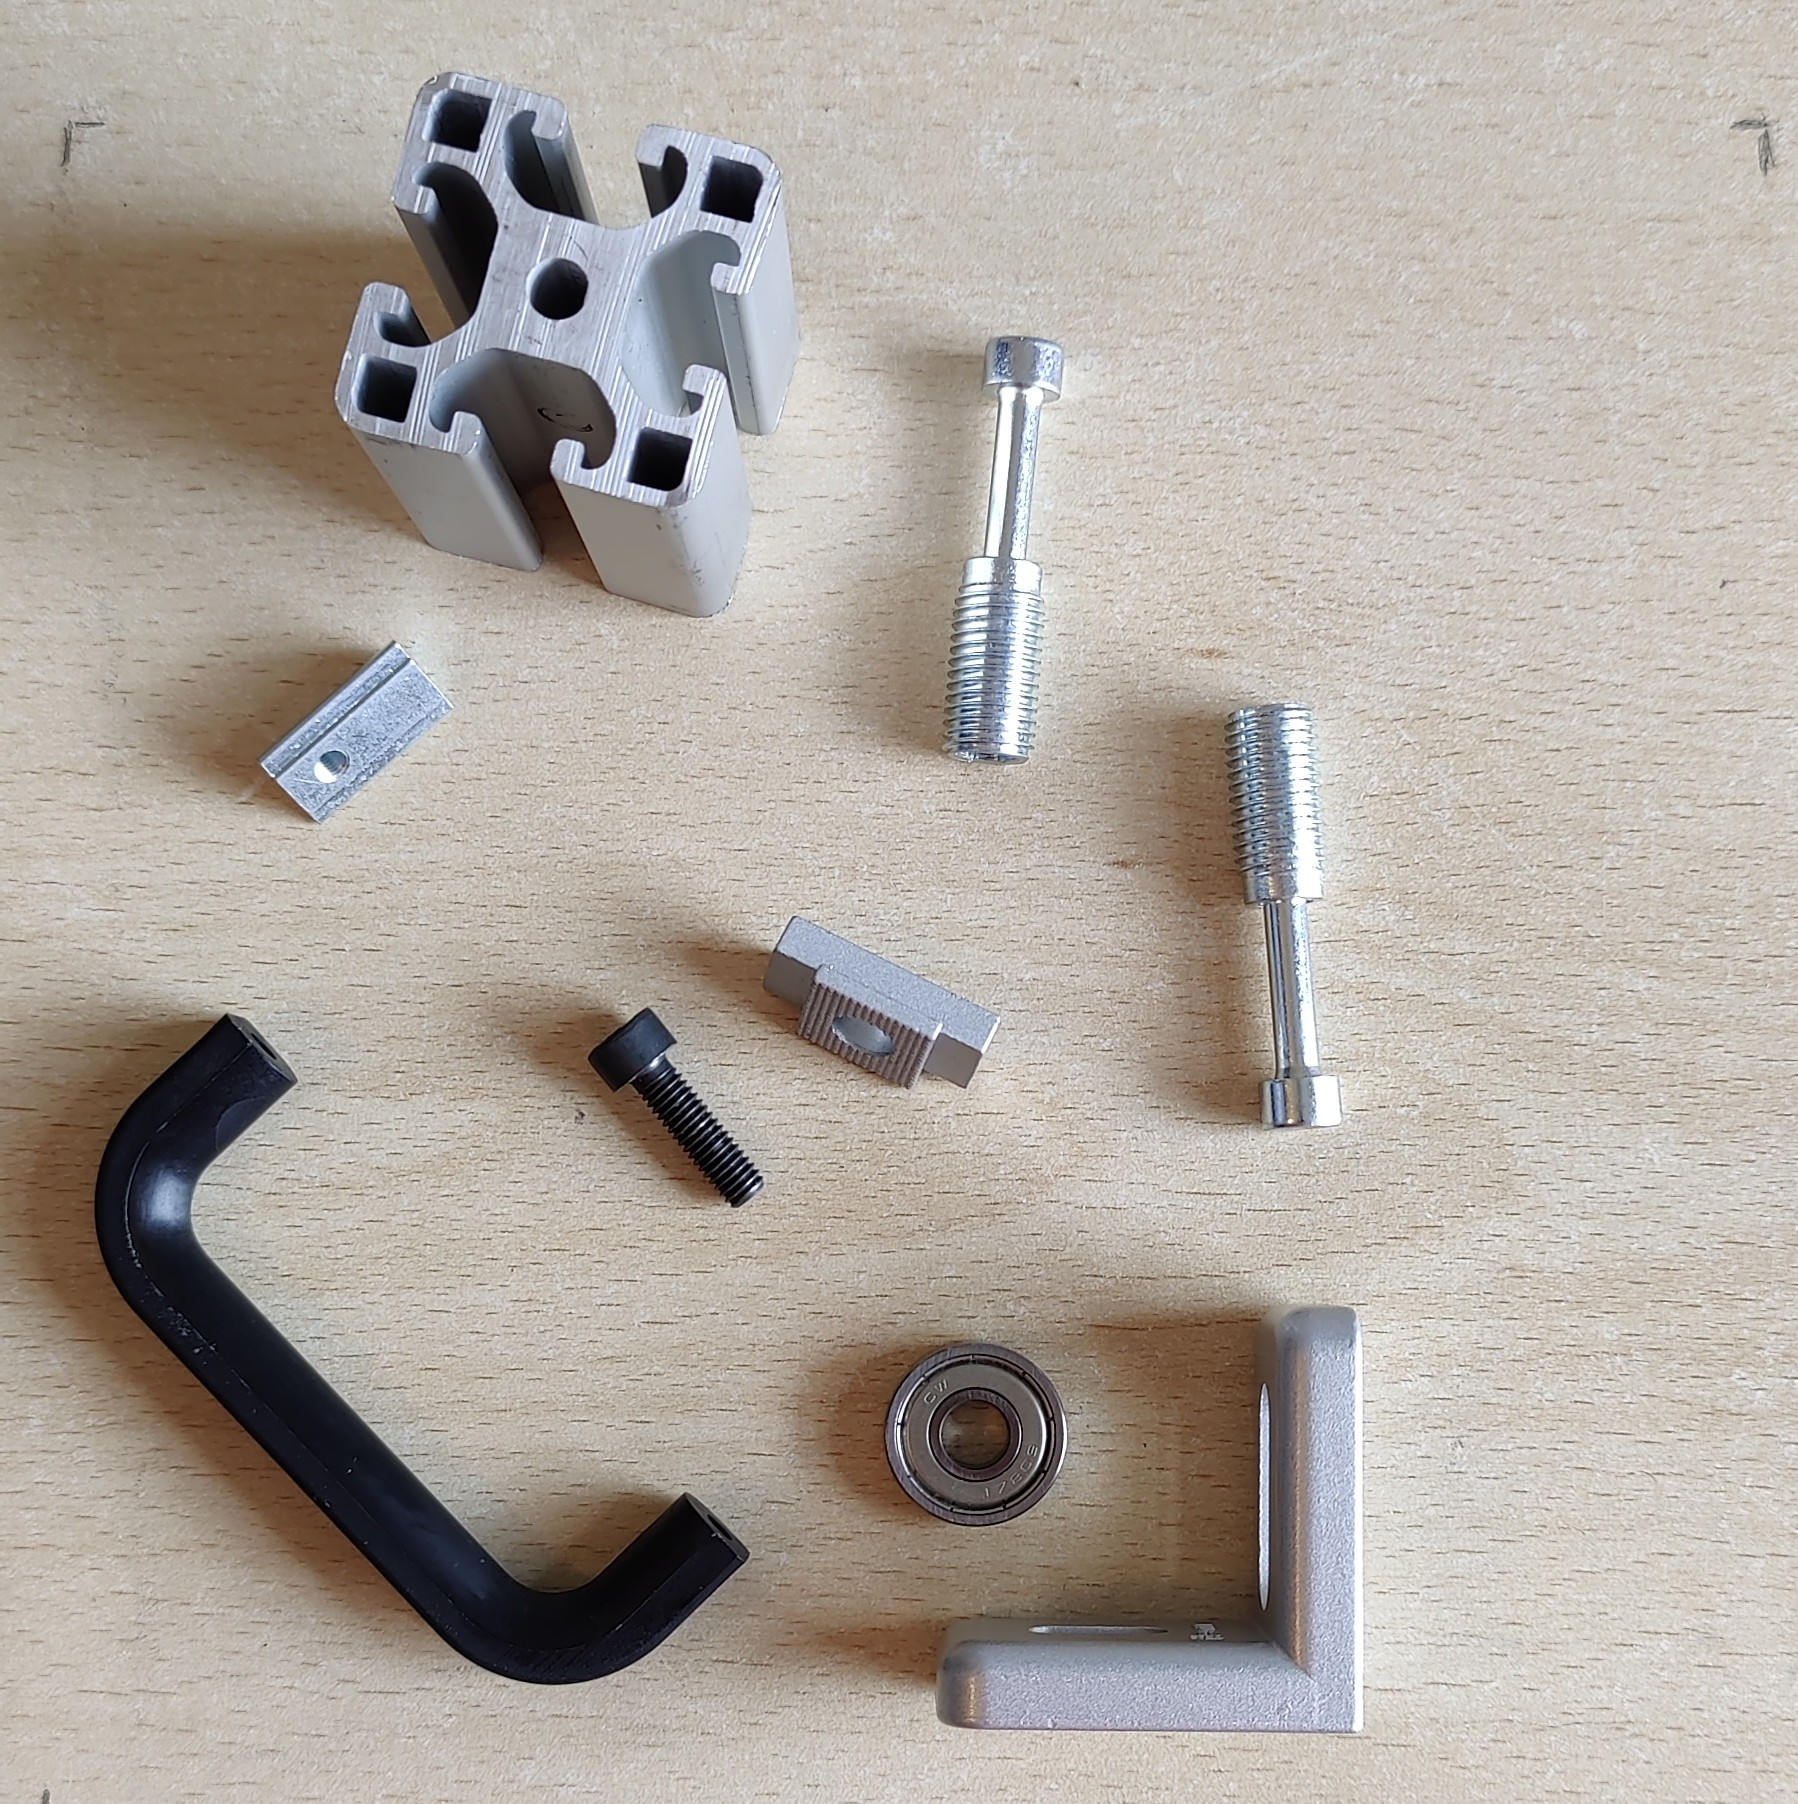Aluminium Extension: (333, 71, 804, 619)
Ball Bearing: (879, 1337, 1074, 1531)
Multiwinkel: (934, 1300, 1368, 1741)
Pull Handle: (91, 1011, 751, 1689)
Shoulder Socket Head Cap Screw: (937, 332, 1065, 769), (1218, 700, 1345, 1132)
Socket Head Cap Screw: (585, 1001, 766, 1210)
T Nut Square: (759, 910, 1006, 1093)
T Spring Nut: (252, 637, 458, 826)
